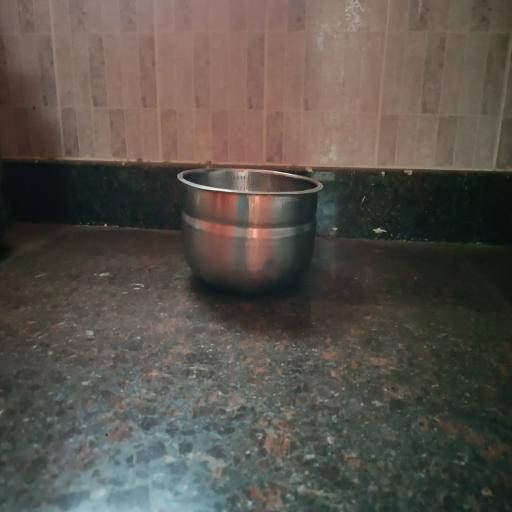vessel: (178, 168, 323, 292)
